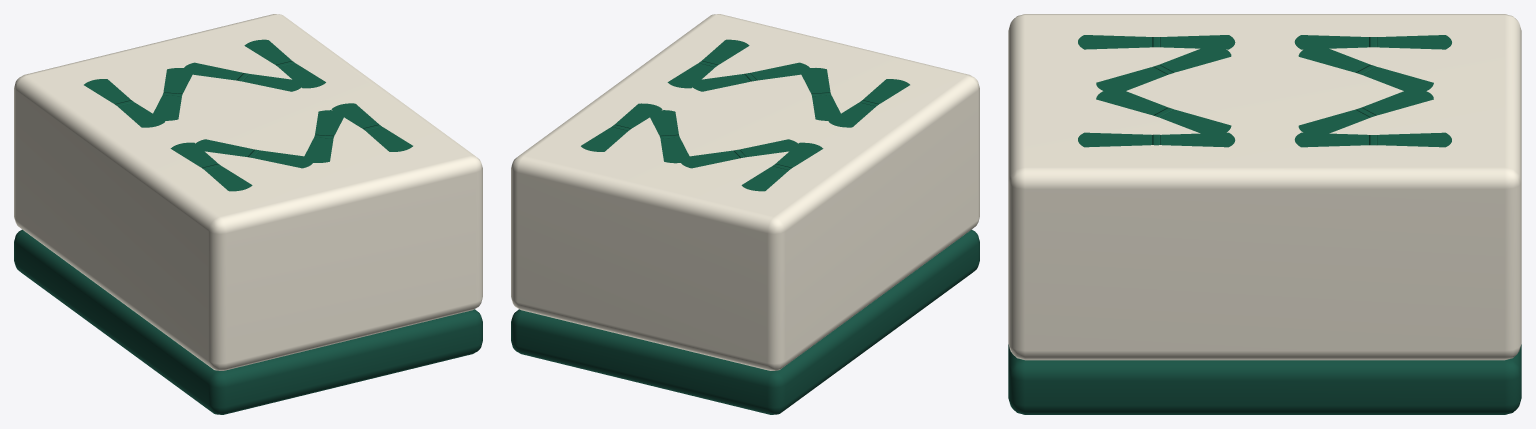
File: suo-08.glb
The picture shows the model from 3 angles, left to right: view 1: azimuth 30°, elevation 25°; view 2: azimuth 150°, elevation 25°; view 3: azimuth 270°, elevation 25°; orthographic projection. The views are drawn at different scales.
Parts seen in each view (by area): view 1: suo-08_ivory, suo-08_back, suo-08_face_inlays; view 2: suo-08_ivory, suo-08_back, suo-08_face_inlays; view 3: suo-08_ivory, suo-08_back, suo-08_face_inlays.
Part boxes in pixels (left/top/right/bottom): suo-08_ivory: left=14, top=14, right=482, bottom=370; suo-08_back: left=14, top=229, right=482, bottom=414; suo-08_face_inlays: left=84, top=39, right=412, bottom=191; suo-08_ivory: left=511, top=14, right=979, bottom=370; suo-08_back: left=511, top=229, right=979, bottom=414; suo-08_face_inlays: left=581, top=39, right=909, bottom=191; suo-08_ivory: left=1008, top=14, right=1521, bottom=360; suo-08_back: left=1008, top=344, right=1521, bottom=414; suo-08_face_inlays: left=1078, top=35, right=1451, bottom=147.
Bounding box in the file's own units: 0.026 × 0.018 × 0.034.
